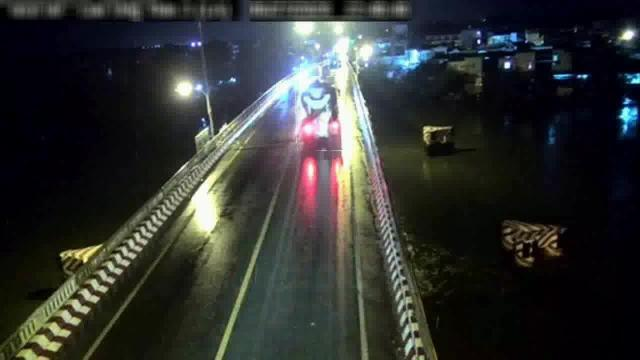Truck: (296, 76, 342, 152)
